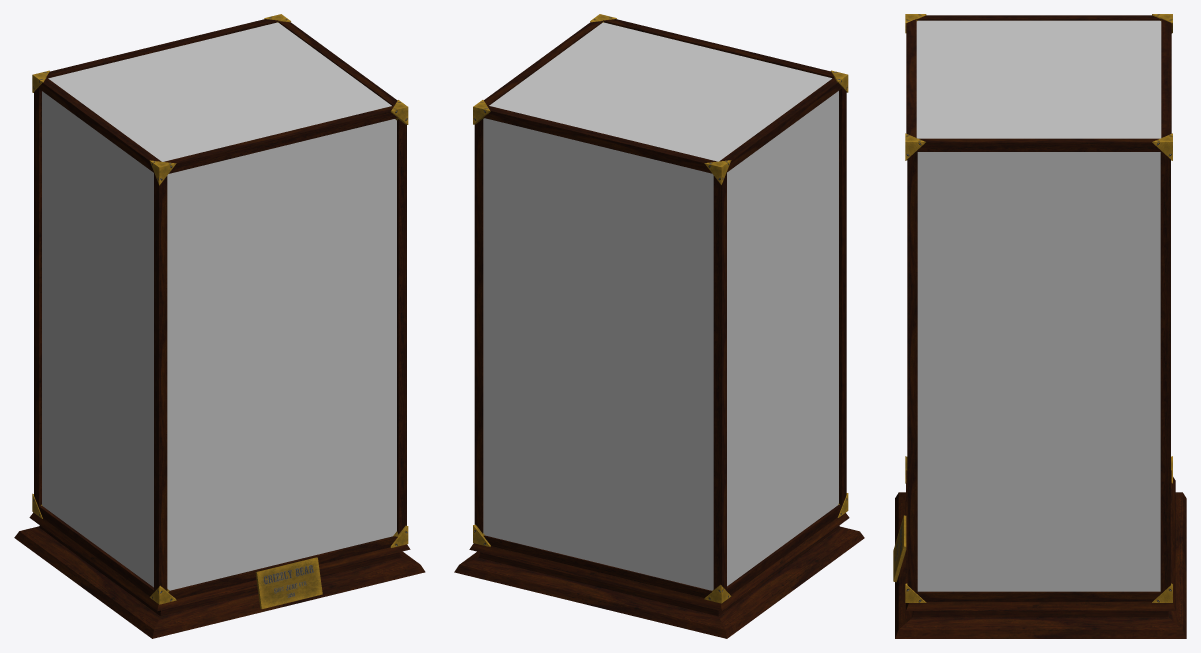
The model's file is bear.DAE.
3 renders of one model, left to right at view 1: azimuth 30°, elevation 25°; view 2: azimuth 150°, elevation 25°; view 3: azimuth 270°, elevation 25°, orthographic. The views are drawn at different scales.
Visible parts, largest first — view 1: glass, frame; view 2: glass, frame; view 3: glass, frame.
Boxes of the visible parts, x1,y1,x2,y2 form: glass: [42, 22, 396, 590]; frame: [14, 14, 425, 638]; glass: [483, 22, 838, 590]; frame: [454, 14, 864, 638]; glass: [916, 20, 1161, 591]; frame: [893, 14, 1186, 638].
Bounding box in the file's own units: 2 × 3.25 × 1.76.
